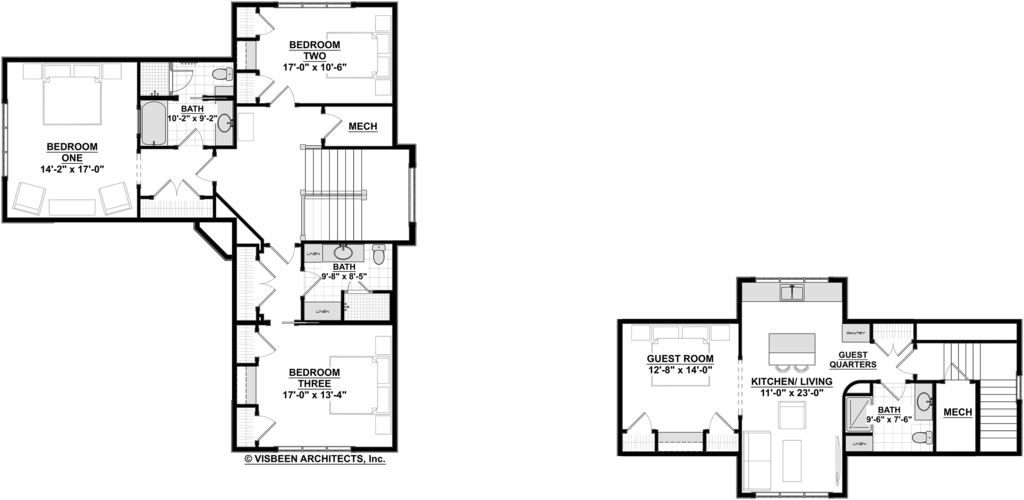bed: (38, 59, 110, 134), (320, 352, 396, 419), (649, 323, 722, 389), (319, 27, 391, 83)
door: (263, 239, 301, 269), (152, 175, 201, 198), (164, 61, 195, 94), (256, 258, 276, 309), (704, 409, 738, 439), (895, 342, 924, 377), (622, 410, 658, 437), (253, 325, 275, 368), (298, 268, 324, 303), (252, 9, 279, 42), (174, 127, 206, 153), (253, 411, 276, 447), (264, 82, 298, 106), (195, 154, 223, 183), (871, 337, 913, 356), (876, 380, 909, 402), (320, 111, 340, 138), (255, 70, 273, 98)
kitchen_bar: (757, 326, 824, 377)
large_sink: (202, 56, 239, 82), (908, 425, 933, 451), (369, 242, 390, 261)
large_sofa: (742, 425, 776, 493)
small_sink: (320, 241, 364, 265), (209, 103, 234, 144), (910, 381, 934, 421)
small_sofa: (7, 172, 49, 216), (778, 389, 813, 436), (98, 182, 134, 217)
stairs: (294, 142, 408, 244), (940, 346, 1021, 451)
tub: (137, 91, 175, 148)
twin_sink: (771, 279, 810, 304)
window: (407, 162, 417, 222), (284, 1, 348, 10)
